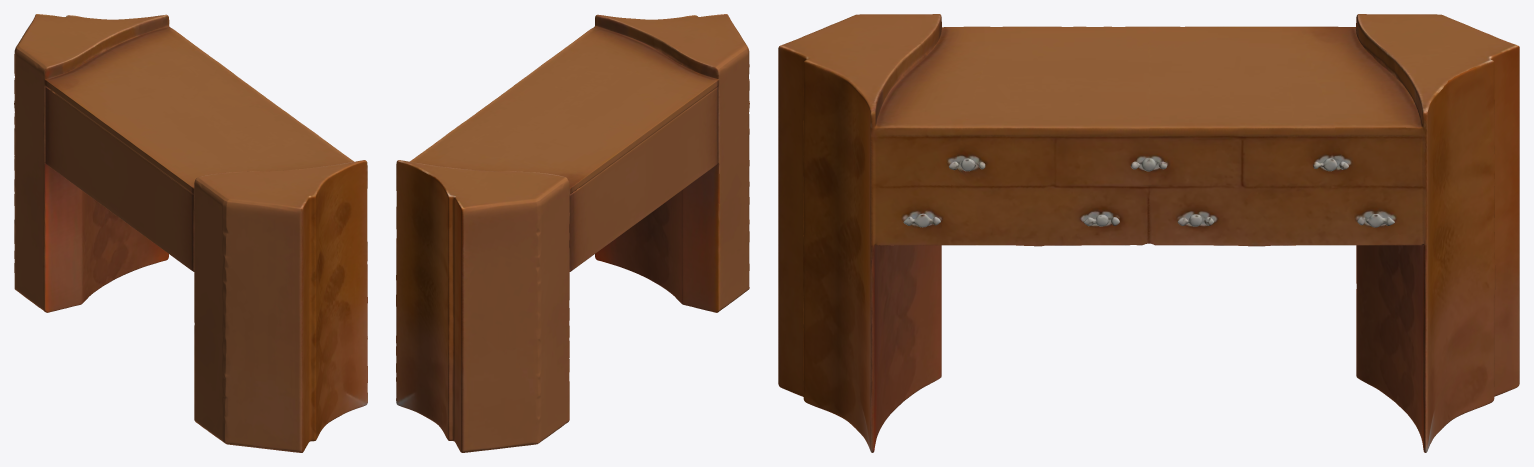
3 views of the same model, side by side, from view 1: azimuth 30°, elevation 25°; view 2: azimuth 150°, elevation 25°; view 3: azimuth 270°, elevation 25° (orthographic). The views are drawn at different scales.
Parts seen in each view (by area): view 1: tripo_node_86f395f4-36ab-40c6-a206-36e29de690f2; view 2: tripo_node_86f395f4-36ab-40c6-a206-36e29de690f2; view 3: tripo_node_86f395f4-36ab-40c6-a206-36e29de690f2.
Boxes of the visible parts, x1,y1,x2,y2 form: tripo_node_86f395f4-36ab-40c6-a206-36e29de690f2: (14,14,367,452); tripo_node_86f395f4-36ab-40c6-a206-36e29de690f2: (396,14,749,452); tripo_node_86f395f4-36ab-40c6-a206-36e29de690f2: (778,14,1519,452).
Bounding box in the file's own units: 0.334 × 0.5094 × 1.
1 material, 1 textured.
